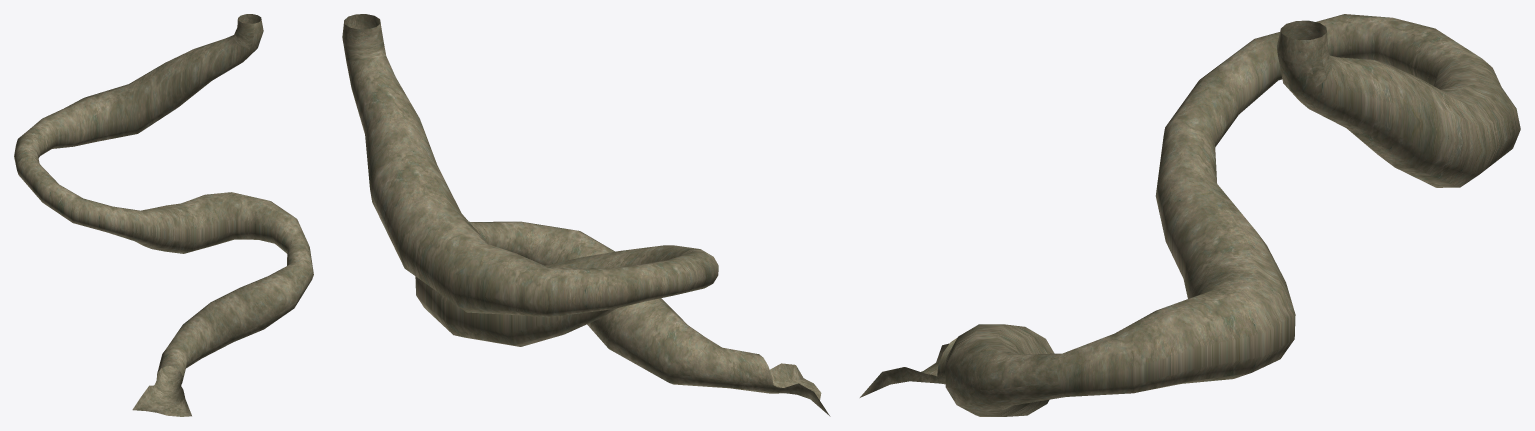
File: EKH_CAVERNS_PS_CA_BIG_SLIDE.fbx
3 renders of one model, left to right at view 1: azimuth 30°, elevation 25°; view 2: azimuth 150°, elevation 25°; view 3: azimuth 270°, elevation 25°, orthographic. The views are drawn at different scales.
Parts seen in each view (by area): view 1: EKH_CAVERNS_PS_CA_BIG_SLIDE; view 2: EKH_CAVERNS_PS_CA_BIG_SLIDE; view 3: EKH_CAVERNS_PS_CA_BIG_SLIDE.
Boxes of the visible parts, <box> form: EKH_CAVERNS_PS_CA_BIG_SLIDE: <box>14,14,313,416</box>; EKH_CAVERNS_PS_CA_BIG_SLIDE: <box>342,14,830,416</box>; EKH_CAVERNS_PS_CA_BIG_SLIDE: <box>860,14,1520,416</box>.
Size of the model in its own units: 264127 by 295359 by 333381.
Materials: 1 (1 with a texture image).
